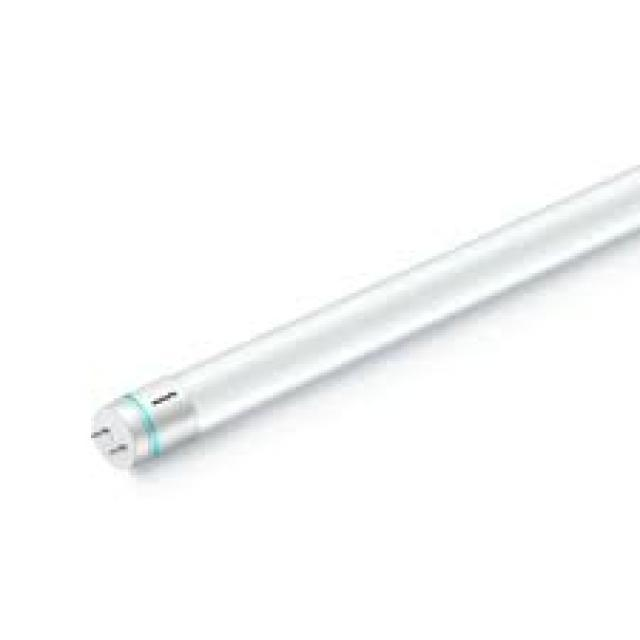tubelight_off: (82, 156, 640, 477)
